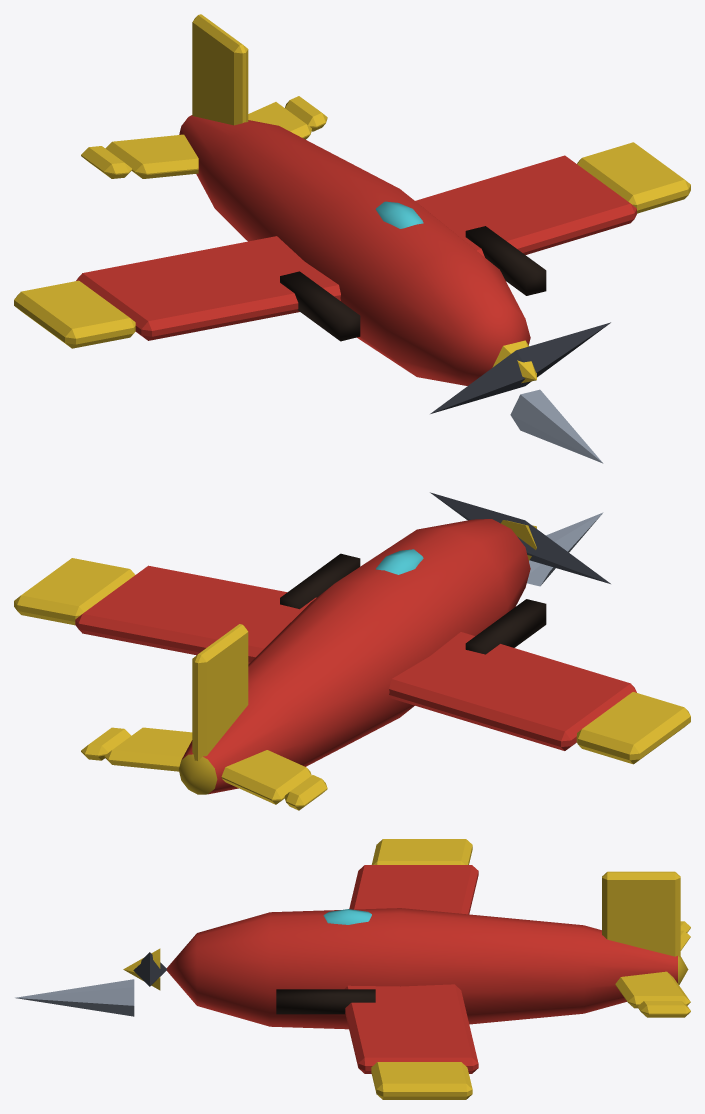
3 renders of one model, top to bottom at view 1: azimuth 30°, elevation 25°; view 2: azimuth 150°, elevation 25°; view 3: azimuth 270°, elevation 25°, orthographic. The views are drawn at different scales.
Parts seen in each view (by area): view 1: as_0_base, as_1_torreta; view 2: as_0_base, as_1_torreta; view 3: as_0_base, as_1_torreta.
Part boxes in pixels (<box>): as_0_base: <box>14,14,690,463</box>; as_1_torreta: <box>430,322,610,413</box>; as_0_base: <box>14,512,690,810</box>; as_1_torreta: <box>430,492,610,583</box>; as_0_base: <box>15,839,690,1099</box>; as_1_torreta: <box>123,948,166,990</box>.
Bounding box in the file's own units: 1.13 × 0.323 × 1.3.
